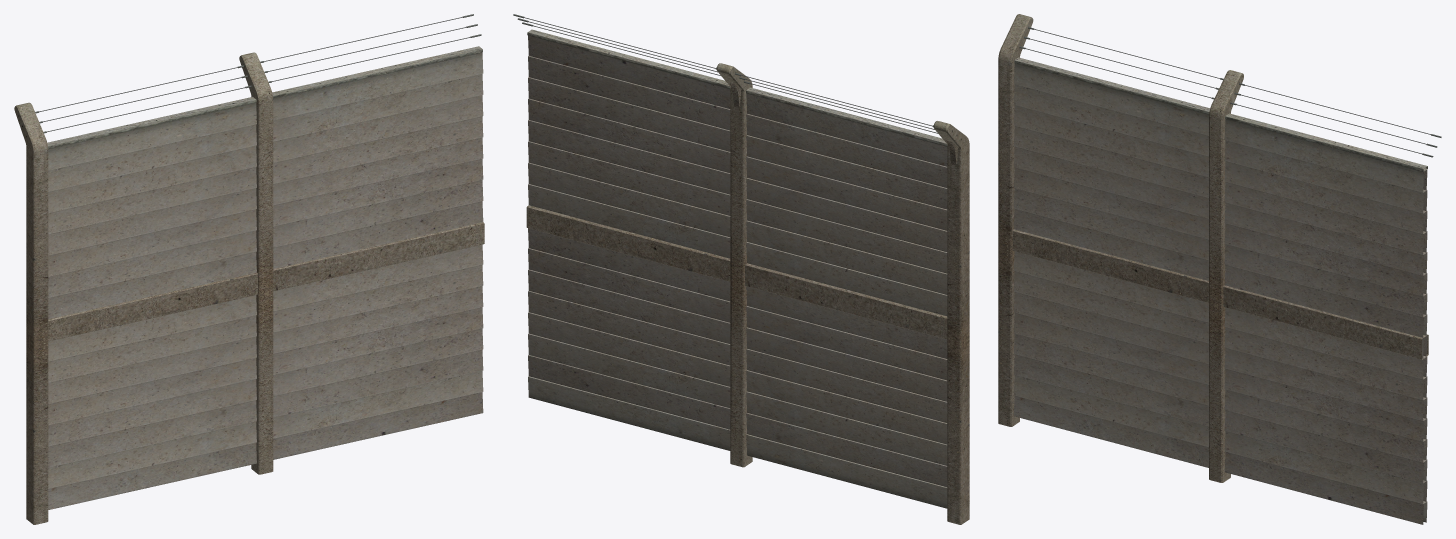
File: object_29.006_lev2.glb
3 renders of one model, left to right at view 1: azimuth 30°, elevation 25°; view 2: azimuth 150°, elevation 25°; view 3: azimuth 330°, elevation 25°, orthographic. The views are drawn at different scales.
Visible parts, largest first — view 1: object_29.006_lev2; view 2: object_29.006_lev2; view 3: object_29.006_lev2.
Part boxes in pixels (x1,y1,x2,y2): object_29.006_lev2: [14, 14, 484, 524]; object_29.006_lev2: [513, 14, 969, 524]; object_29.006_lev2: [998, 14, 1441, 524].
Size of the model in its own units: 9.39 by 8.14 by 1.09.
1 material, 1 textured.
